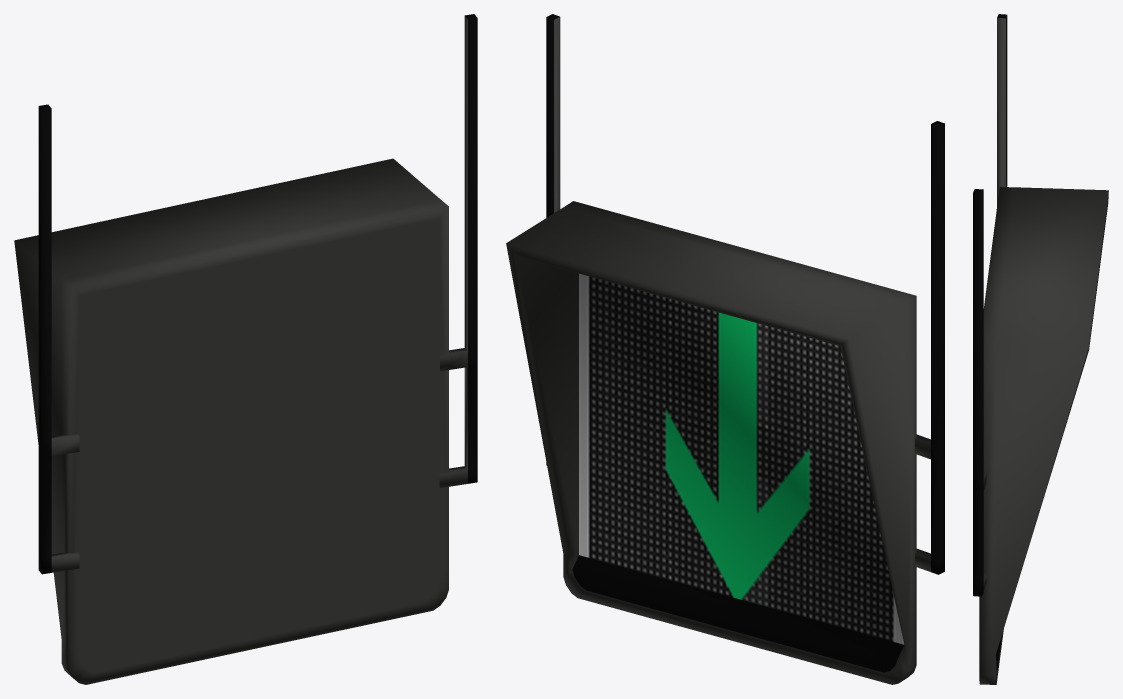
File: cdd.gltf
3 views of the same model, side by side, from view 1: azimuth 30°, elevation 25°; view 2: azimuth 150°, elevation 25°; view 3: azimuth 270°, elevation 25° (orthographic). The views are drawn at different scales.
Parts seen in each view (by area): view 1: LaneControlLight_1af223af_de80_46dd_8668_86fd9df5985a; view 2: LaneControlLight_1af223af_de80_46dd_8668_86fd9df5985a; view 3: LaneControlLight_1af223af_de80_46dd_8668_86fd9df5985a.
Part boxes in pixels (x1,y1,x2,y2): LaneControlLight_1af223af_de80_46dd_8668_86fd9df5985a: (14,14,477,684); LaneControlLight_1af223af_de80_46dd_8668_86fd9df5985a: (506,14,944,684); LaneControlLight_1af223af_de80_46dd_8668_86fd9df5985a: (973,14,1108,684).
Bounding box in the file's own units: 0.9456 × 1.25 × 0.3028.
4 materials, 4 textured.
